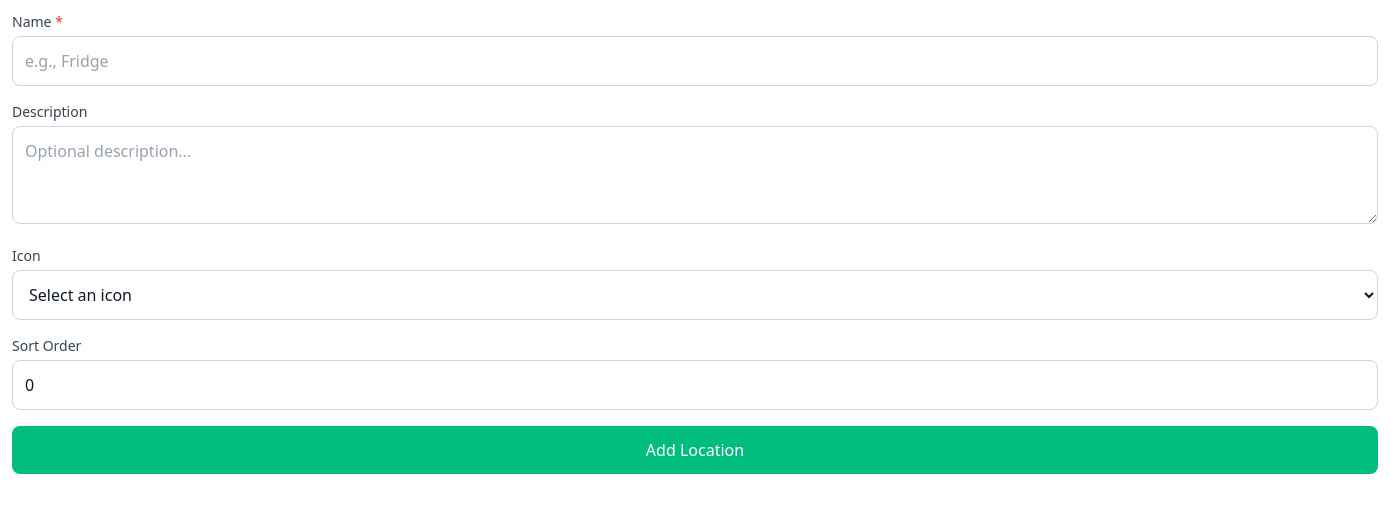
Test: LocationForm › shows validation error for empty name
Clear the field labelled "Name *" at (695, 61), box [12,36,1378,86]
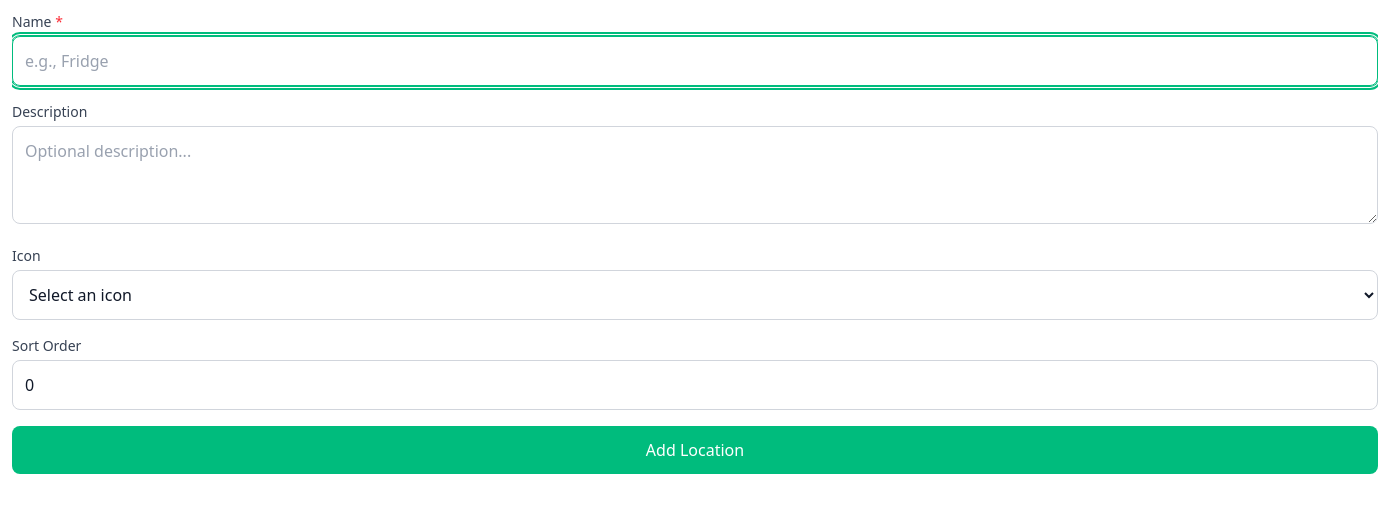
Click the button "Add Location".
click(695, 450)  # box [12,426,1378,474]
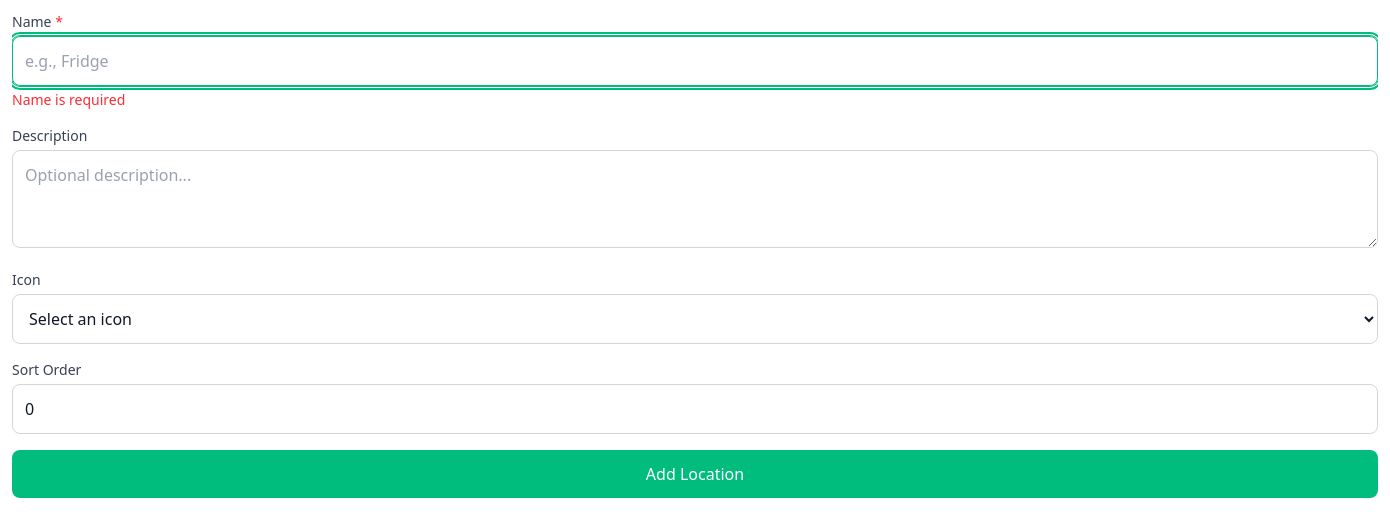
Expected: the text "Name is required" is shown, [12,90,125,109]
